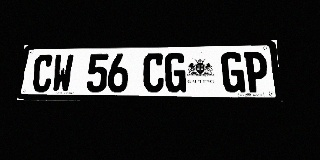5: (86, 54, 109, 92)
6: (107, 53, 129, 92)
C: (31, 55, 54, 92), (143, 53, 164, 92)
G: (221, 52, 245, 92), (165, 53, 186, 92)
P: (244, 51, 269, 93)
W: (51, 54, 74, 92)
